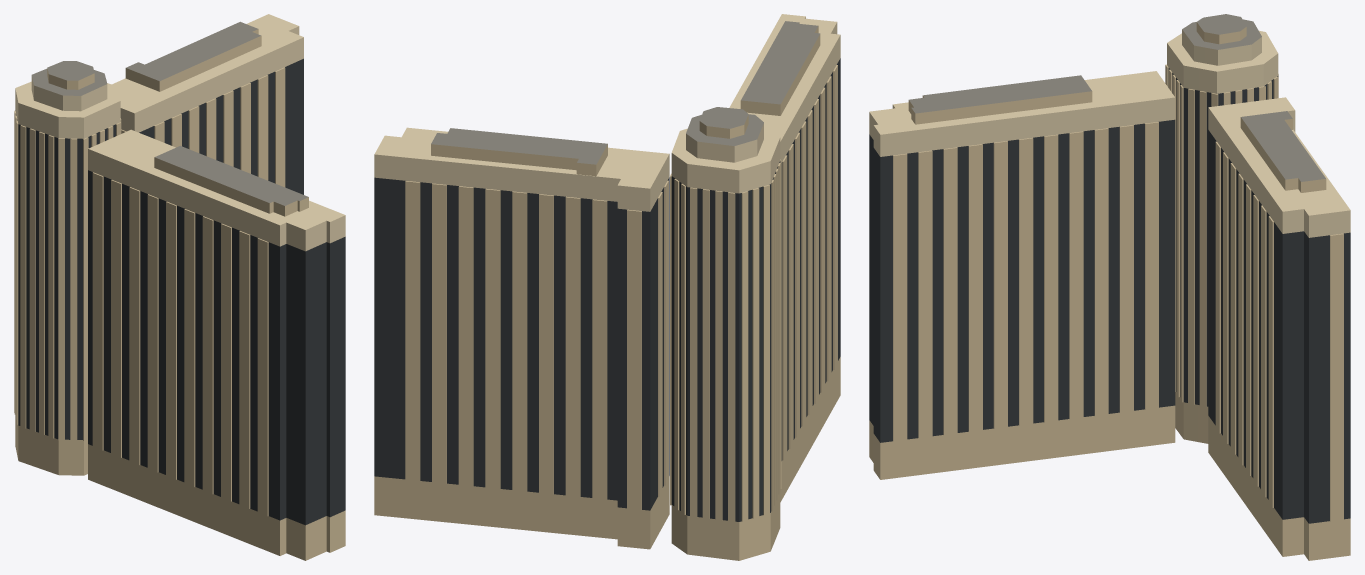
Rendered from hilton_grand_vacations_r6138877.glb.
3 views of the same model, side by side, from view 1: azimuth 30°, elevation 25°; view 2: azimuth 150°, elevation 25°; view 3: azimuth 270°, elevation 25° (orthographic). The views are drawn at different scales.
Parts seen in each view (by area): view 1: Tower; view 2: Tower; view 3: Tower.
Part boxes in pixels (box(x1,y1,x2,y2)): Tower: box(14, 14, 345, 560); Tower: box(374, 14, 840, 560); Tower: box(869, 14, 1350, 560).
Size of the model in its own units: 109 by 126 by 137.
